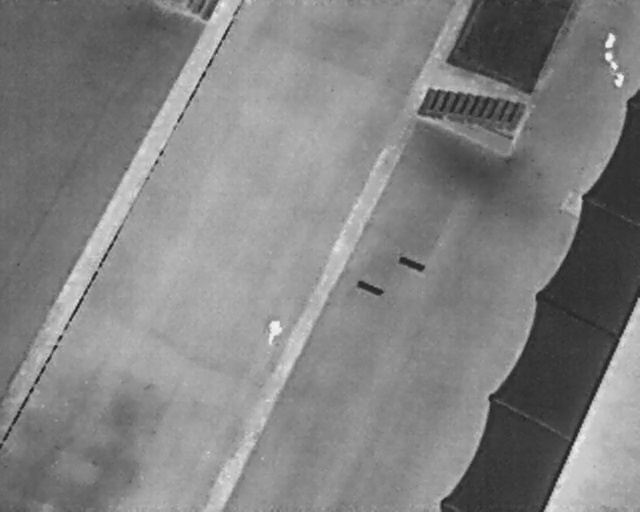Person: (267, 318, 282, 345)
